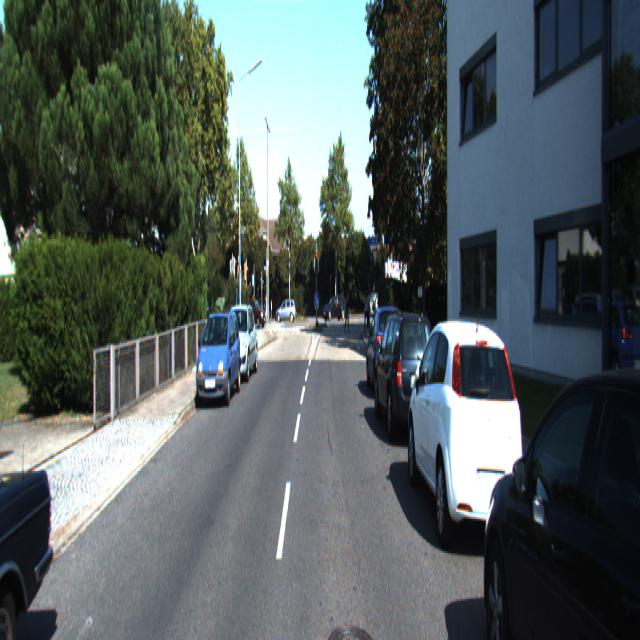Car: (482, 330, 640, 638), (406, 310, 528, 559), (0, 367, 68, 638), (373, 305, 442, 448), (195, 307, 242, 408), (365, 302, 408, 401), (220, 302, 258, 386)
